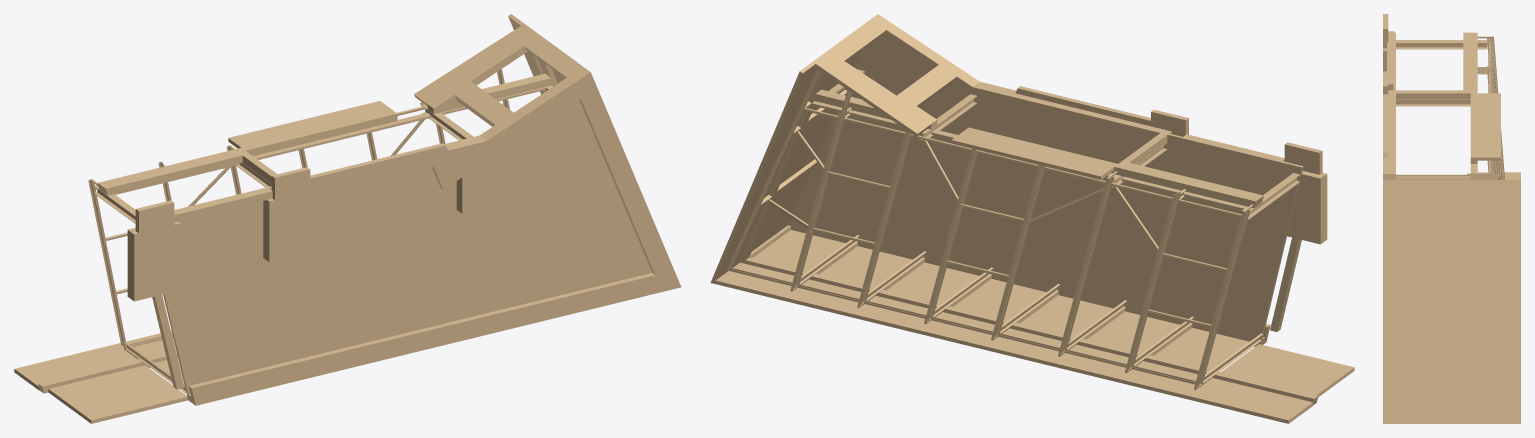
Rendered from example.glb.
3 renders of one model, left to right at view 1: azimuth 30°, elevation 25°; view 2: azimuth 150°, elevation 25°; view 3: azimuth 270°, elevation 25°, orthographic. The views are drawn at different scales.
Size of the model in its own units: 25.3 by 9.74 by 5.92.
